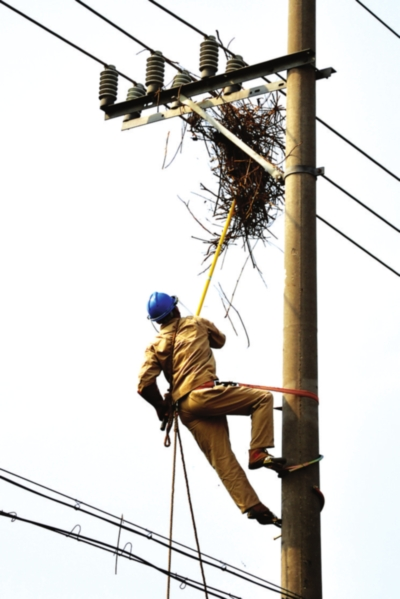bird-nest: (214, 104, 281, 234)
